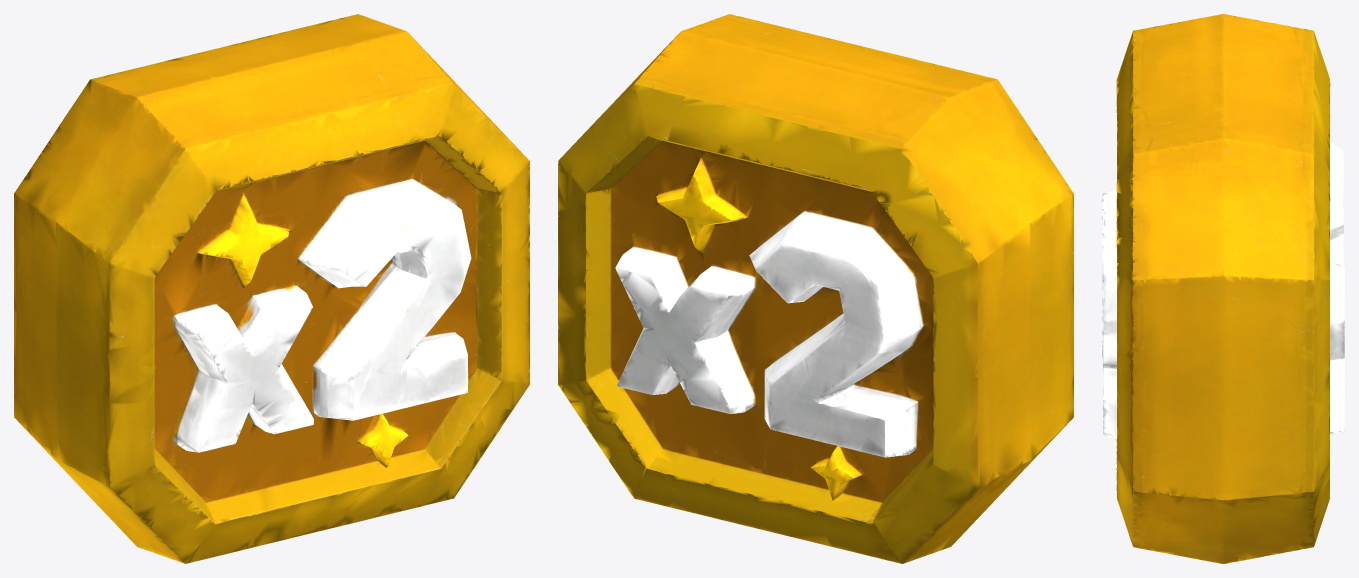
File: coin.glb
The picture shows the model from 3 angles, left to right: view 1: azimuth 30°, elevation 25°; view 2: azimuth 150°, elevation 25°; view 3: azimuth 270°, elevation 25°; orthographic projection. The views are drawn at different scales.
Bounding box in the file's own units: 1.9 × 1.9 × 0.9804.
1 material, 1 textured.
